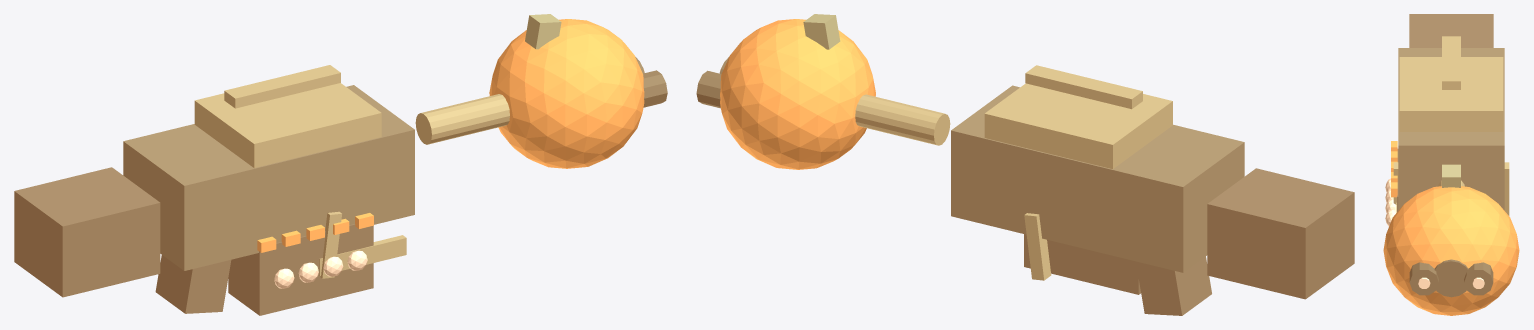
Rendered from halloween-lmg.glb.
3 views of the same model, side by side, from view 1: azimuth 30°, elevation 25°; view 2: azimuth 150°, elevation 25°; view 3: azimuth 270°, elevation 25° (orthographic). The views are drawn at different scales.
Parts seen in each view (by area): view 1: RECEIVER, PUMPKIN_MUZZLE_HOUSING, STOCK, FEED_COVER, AMMO_BOX, PISTOL_GRIP, HEAVY_BARREL, CARRY_HANDLE, BELT_COVER, PUMPKIN_STEM, PUMPKIN_MOUTH_BARREL_0.1, BIPOD_R; view 2: RECEIVER, PUMPKIN_MUZZLE_HOUSING, STOCK, FEED_COVER, AMMO_BOX, PISTOL_GRIP, HEAVY_BARREL, CARRY_HANDLE, BIPOD_L, PUMPKIN_STEM, PUMPKIN_MOUTH_BARREL_-0.1; view 3: PUMPKIN_MUZZLE_HOUSING, FEED_COVER, RECEIVER, STOCK, CARRY_HANDLE, MUZZLE, PUMPKIN_MOUTH_BARREL_0.1, PUMPKIN_MOUTH_BARREL_-0.1, PUMPKIN_STEM, BIPOD_L, BIPOD_R, CANDY_CORE_0.1 (+4 smaller).
Part boxes in pixels (left/top/right/bottom): RECEIVER: left=123, top=85, right=414, bottom=270; PUMPKIN_MUZZLE_HOUSING: left=489, top=19, right=644, bottom=168; STOCK: left=14, top=167, right=160, bottom=297; FEED_COVER: left=194, top=83, right=381, bottom=167; AMMO_BOX: left=228, top=224, right=373, bottom=315; PISTOL_GRIP: left=155, top=255, right=231, bottom=313; HEAVY_BARREL: left=415, top=94, right=509, bottom=144; CARRY_HANDLE: left=224, top=65, right=340, bottom=108; BELT_COVER: left=319, top=235, right=406, bottom=275; PUMPKIN_STEM: left=525, top=14, right=561, bottom=49; PUMPKIN_MOUTH_BARREL_0.1: left=643, top=70, right=667, bottom=107; BIPOD_R: left=320, top=211, right=341, bottom=278; RECEIVER: left=951, top=85, right=1244, bottom=272; PUMPKIN_MUZZLE_HOUSING: left=720, top=19, right=875, bottom=169; STOCK: left=1207, top=168, right=1354, bottom=299; FEED_COVER: left=984, top=83, right=1172, bottom=168; AMMO_BOX: left=1024, top=234, right=1140, bottom=294; PISTOL_GRIP: left=1136, top=256, right=1211, bottom=315; HEAVY_BARREL: left=855, top=94, right=950, bottom=145; CARRY_HANDLE: left=1025, top=65, right=1142, bottom=109; BIPOD_L: left=1024, top=213, right=1051, bottom=280; PUMPKIN_STEM: left=803, top=14, right=840, bottom=49; PUMPKIN_MOUTH_BARREL_-0.1: left=696, top=70, right=721, bottom=108; PUMPKIN_MUZZLE_HOUSING: left=1383, top=186, right=1519, bottom=315; FEED_COVER: left=1399, top=57, right=1503, bottom=131; RECEIVER: left=1398, top=48, right=1504, bottom=210; STOCK: left=1409, top=14, right=1493, bottom=47; CARRY_HANDLE: left=1442, top=36, right=1460, bottom=89; MUZZLE: left=1434, top=259, right=1468, bottom=297; PUMPKIN_MOUTH_BARREL_0.1: left=1409, top=262, right=1438, bottom=295; PUMPKIN_MOUTH_BARREL_-0.1: left=1464, top=262, right=1493, bottom=295; PUMPKIN_STEM: left=1442, top=164, right=1460, bottom=187; BIPOD_L: left=1504, top=162, right=1509, bottom=215; BIPOD_R: left=1393, top=162, right=1398, bottom=204; CANDY_CORE_0.1: left=1418, top=277, right=1430, bottom=288.
Size of the model in its own units: 2.24 by 0.7117 by 0.5.
